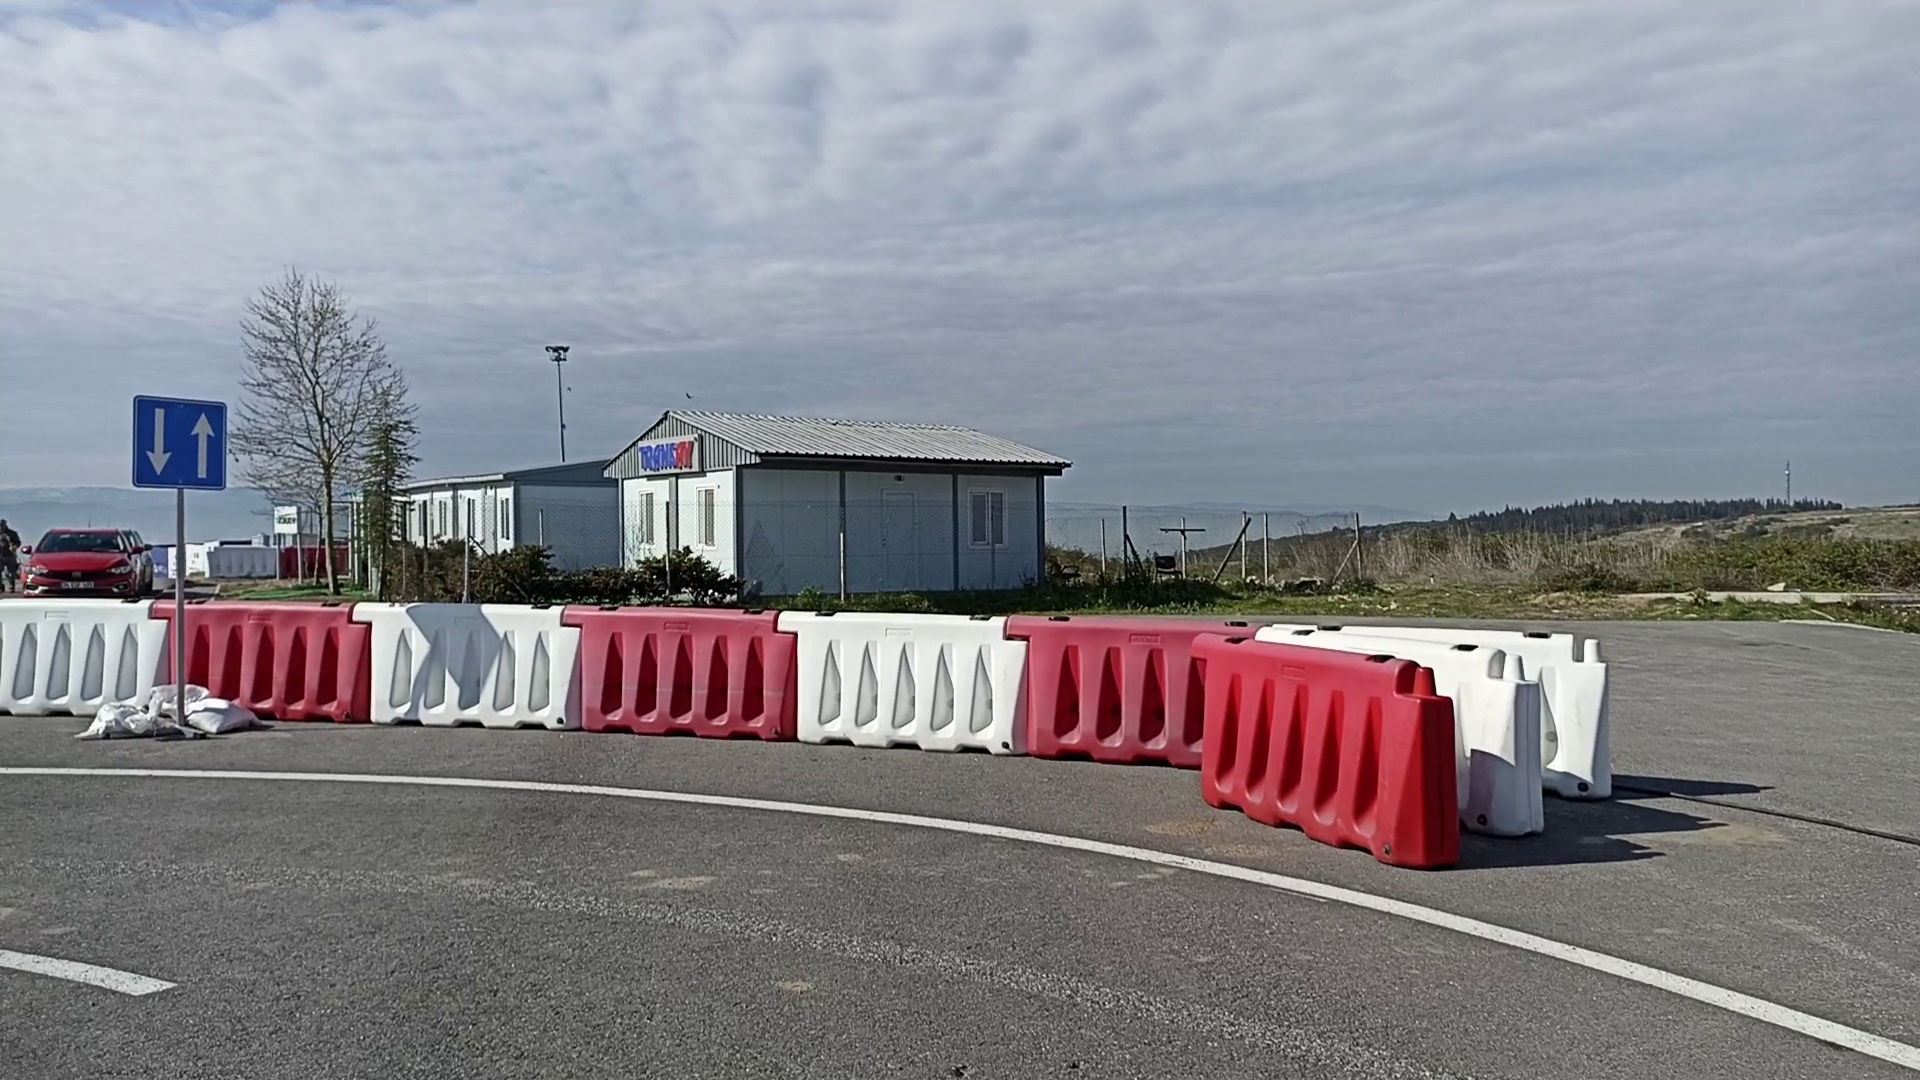oneway: (131, 393, 229, 493)
